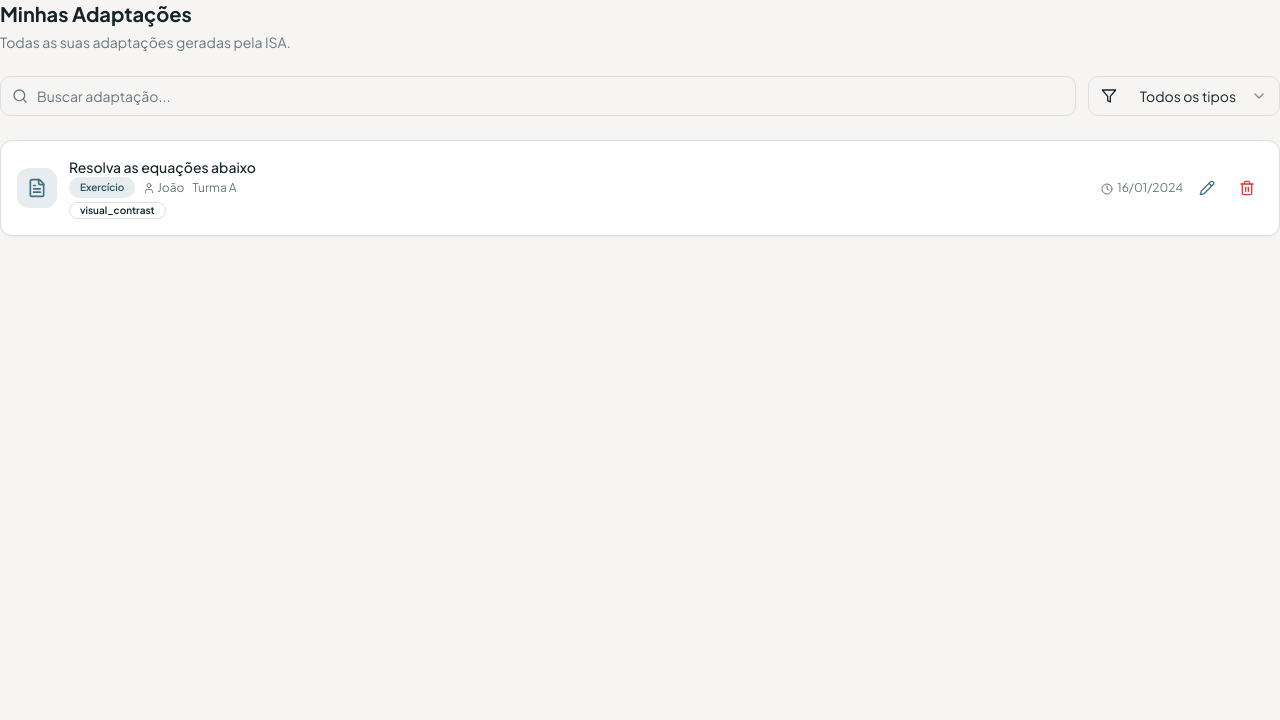
it: MyAdaptations Page › shows wizard versions in view mode
What coordinates should you click on to do the following:
click the text "Resolva as equações abaixo"
I would click on:
 (162, 167)
Its box is left=69, top=157, right=256, bottom=177.
(page scrolled)
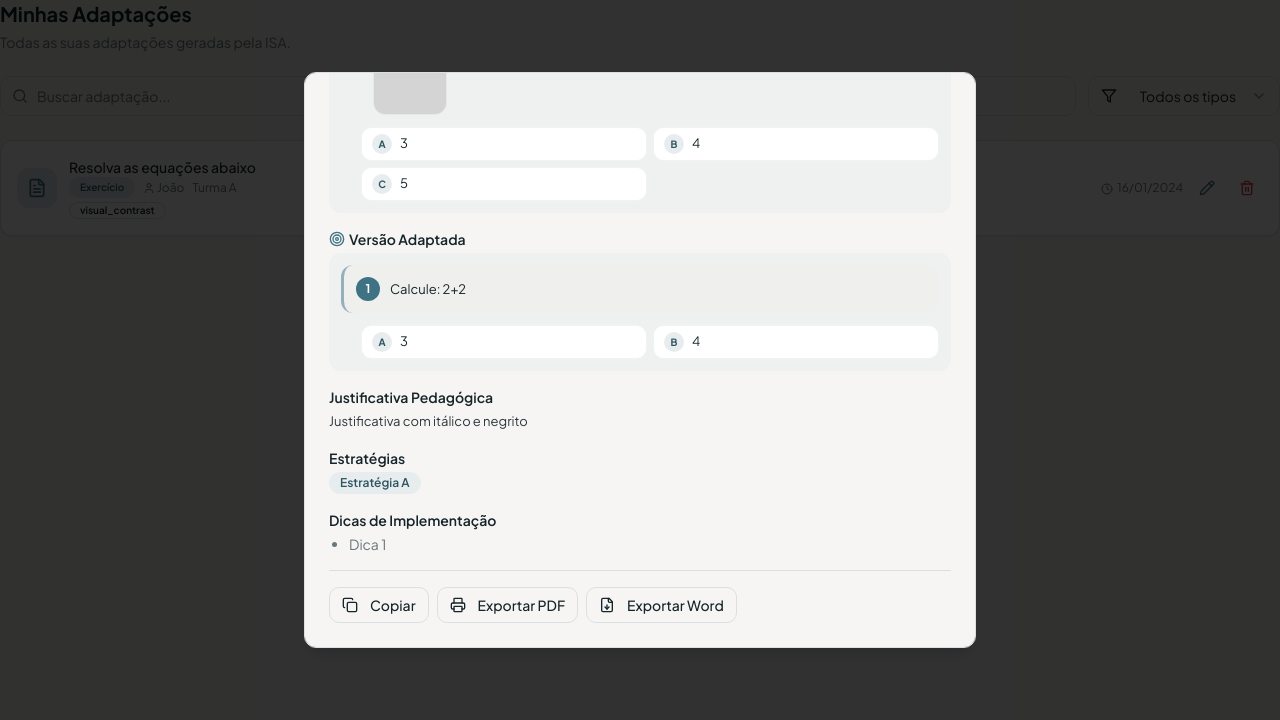
Check: the heading "Versão Adaptada" is shown, box left=329, top=230, right=466, bottom=248
Check: the heading "Justificativa Pedagógica" is shown, box left=329, top=388, right=493, bottom=406
